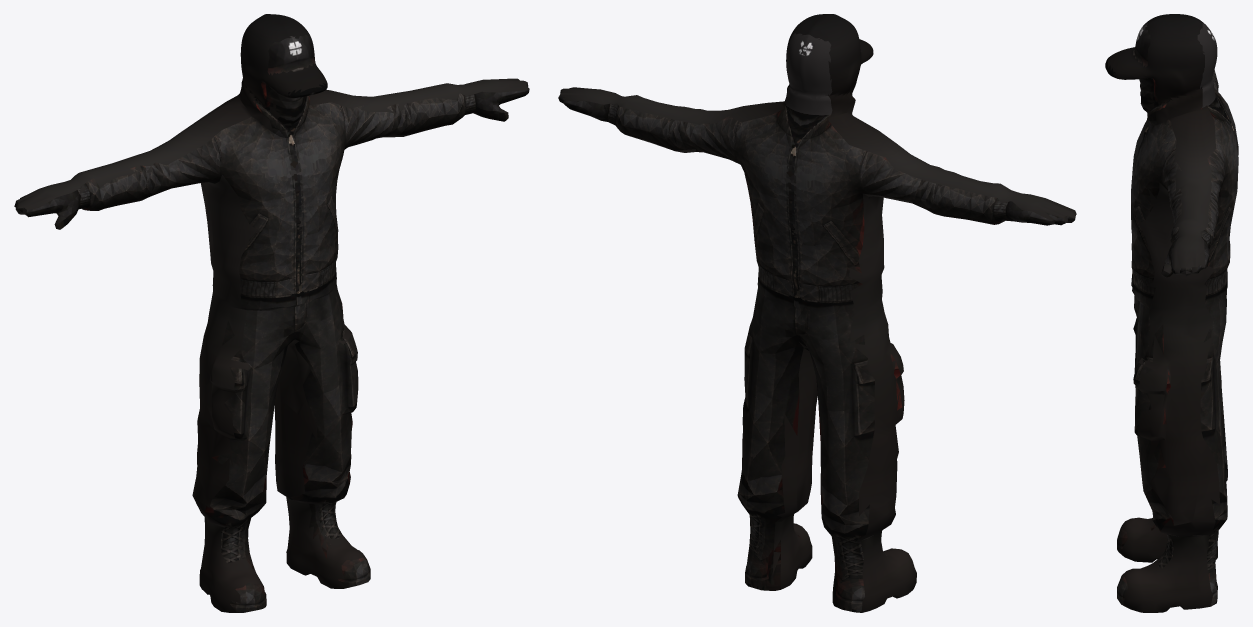
Rendered from masked-raver-prepped.glb.
The picture shows the model from 3 angles, left to right: view 1: azimuth 30°, elevation 25°; view 2: azimuth 150°, elevation 25°; view 3: azimuth 270°, elevation 25°; orthographic projection.
Visible parts, largest first — view 1: Character; view 2: Character; view 3: Character.
Part boxes in pixels (x1,y1,x2,y2): Character: (14,14,529,612); Character: (558,14,1076,612); Character: (1105,14,1238,612).
Bounding box in the file's own units: 1.66 × 1.75 × 0.3774.
Materials: 3 (3 with a texture image).
